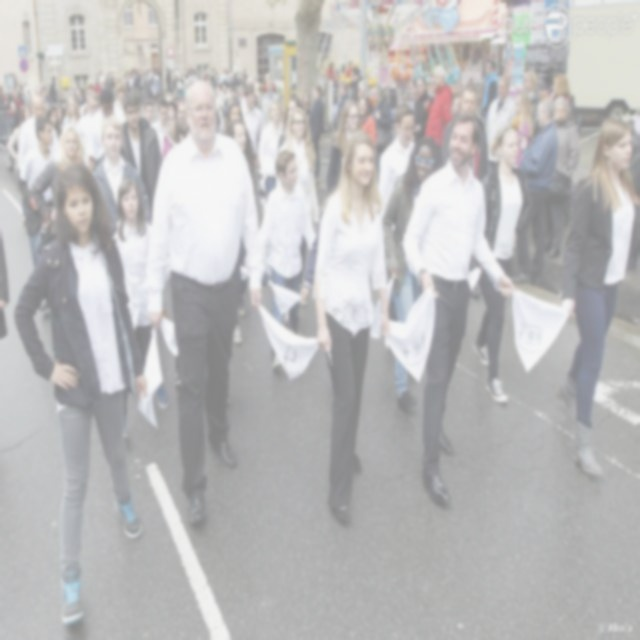pessoa: (12, 161, 150, 628), (146, 79, 266, 528), (400, 112, 518, 507), (312, 128, 395, 530), (552, 110, 636, 484), (467, 118, 535, 410), (380, 134, 444, 412), (110, 177, 170, 441), (254, 148, 318, 376), (506, 95, 562, 288), (17, 115, 58, 316), (29, 122, 88, 256), (224, 120, 258, 348), (278, 106, 320, 290), (88, 112, 151, 230), (544, 94, 581, 260), (118, 94, 164, 220), (440, 82, 490, 186), (378, 100, 419, 218), (483, 73, 518, 174), (326, 100, 363, 193), (16, 94, 59, 168), (86, 88, 122, 174), (622, 104, 640, 270), (256, 100, 285, 196), (424, 63, 454, 151), (306, 82, 328, 186), (508, 90, 534, 168), (372, 82, 392, 182), (276, 94, 305, 158), (76, 92, 100, 168), (150, 98, 178, 162), (240, 82, 266, 150), (548, 72, 578, 125), (5, 104, 32, 162), (521, 67, 543, 138), (477, 59, 499, 128), (412, 74, 434, 142), (5, 98, 21, 174), (0, 222, 10, 342), (164, 66, 196, 102), (121, 66, 152, 102), (356, 96, 376, 146), (260, 77, 280, 126), (332, 80, 350, 133), (218, 98, 246, 132), (214, 81, 229, 137), (61, 95, 82, 134), (0, 81, 29, 108), (44, 104, 60, 152), (112, 81, 128, 126), (356, 80, 374, 116), (174, 102, 188, 144), (79, 82, 93, 116), (350, 66, 364, 100), (93, 70, 114, 92), (166, 100, 178, 138), (54, 102, 66, 136), (326, 59, 337, 96), (262, 72, 278, 95), (152, 70, 162, 104), (142, 100, 155, 126), (234, 62, 252, 80), (226, 86, 242, 106), (48, 74, 58, 104), (301, 90, 311, 120), (449, 95, 462, 118), (41, 82, 50, 114), (202, 64, 218, 82), (236, 85, 246, 108), (76, 86, 86, 106), (251, 70, 259, 94), (344, 58, 352, 78), (216, 106, 221, 136), (219, 70, 231, 82), (82, 104, 90, 116), (222, 80, 228, 94), (152, 64, 160, 72)
